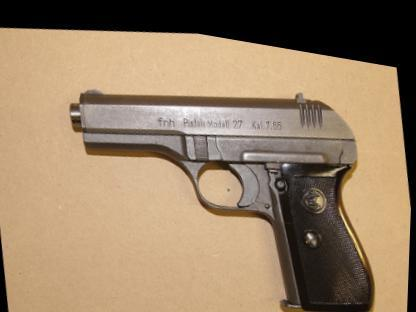pistol: (57, 43, 384, 311)
